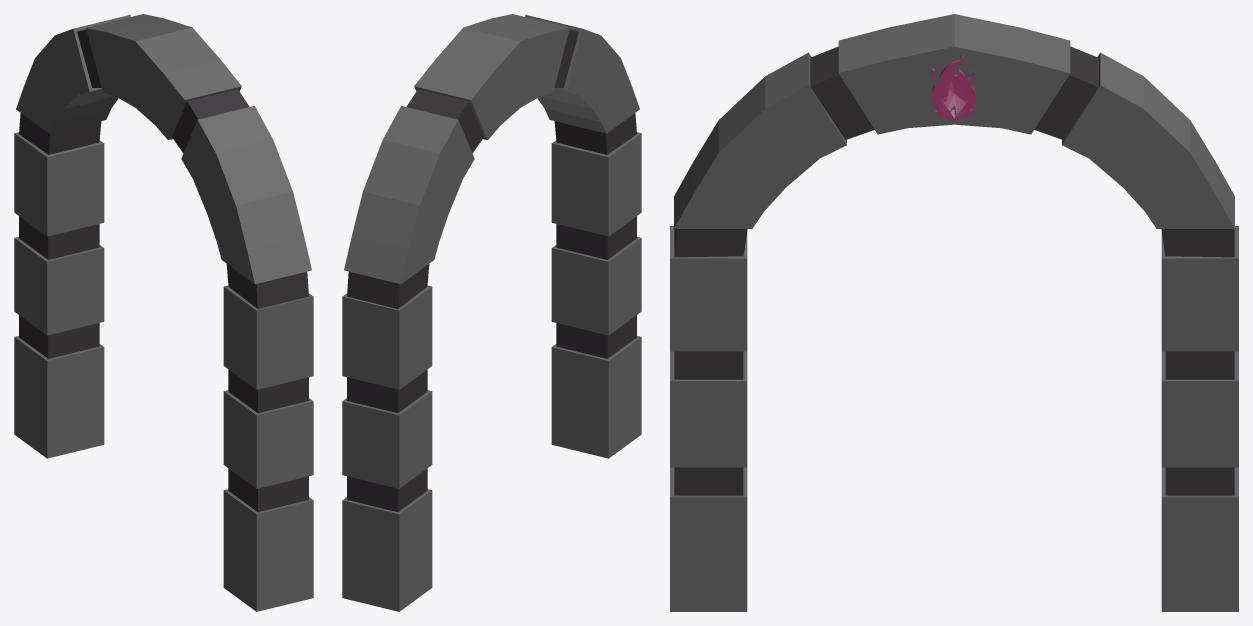
Rendered from FireDoorFrame.fbx.
3 renders of one model, left to right at view 1: azimuth 30°, elevation 25°; view 2: azimuth 150°, elevation 25°; view 3: azimuth 270°, elevation 25°, orthographic. The views are drawn at different scales.
Visible parts, largest first — view 1: fireframe; view 2: fireframe; view 3: fireframe.
Part boxes in pixels (x1,y1,x2,y2): fireframe: (14,14,313,611); fireframe: (342,14,641,611); fireframe: (670,14,1238,611).
Size of the model in its own units: 0.9878 by 7.56 by 6.89.
